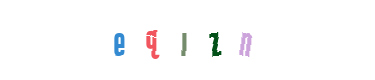E: (104, 0, 184, 80)
L: (147, 0, 227, 80)
N: (175, 0, 255, 80)
Q: (112, 0, 192, 80)
Z: (161, 0, 241, 80)
